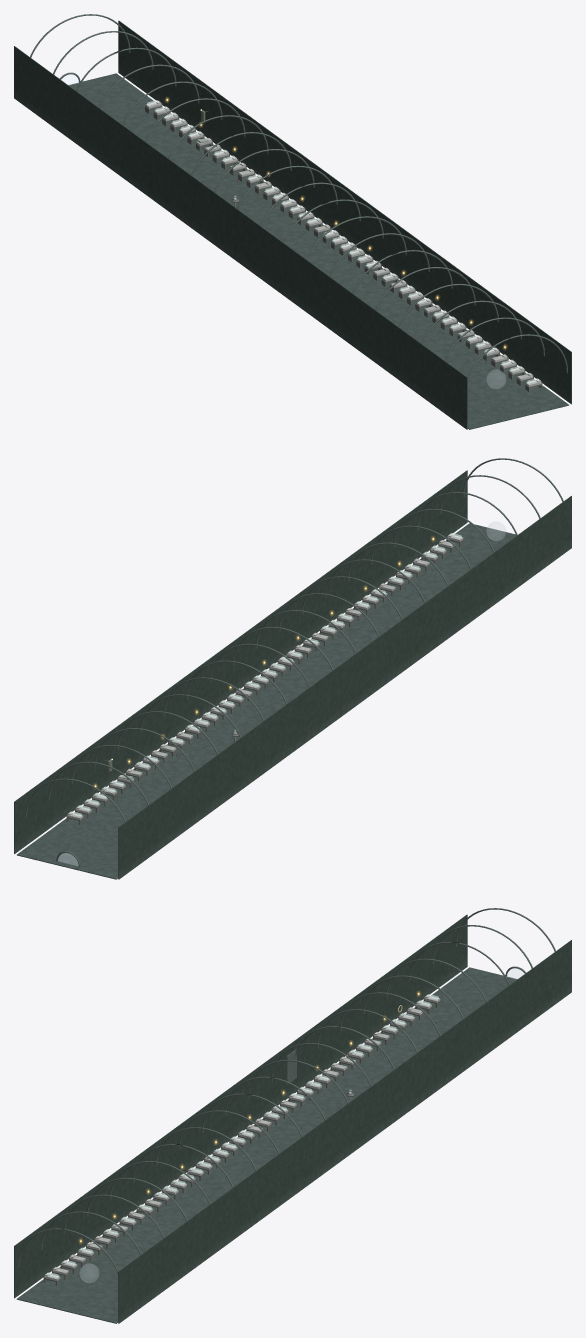
The model's file is faded-ward.glb.
3 views of the same model, one above another, from view 1: azimuth 30°, elevation 25°; view 2: azimuth 150°, elevation 25°; view 3: azimuth 330°, elevation 25° (orthographic).
Visible parts, largest first — view 1: fw_wall_left, fw_wall_right, fw_floor, fw_roof_ribs, fw_cot_mattresses, fw_cot_frames, fw_sleepers, fw_cot_pillows; view 2: fw_wall_left, fw_wall_right, fw_floor, fw_roof_ribs, fw_cot_mattresses, fw_cot_frames, fw_sleepers, fw_cot_pillows; view 3: fw_wall_right, fw_wall_left, fw_floor, fw_roof_ribs, fw_cot_mattresses, fw_cot_frames, fw_sleepers, fw_cot_pillows.
Boxes of the visible parts, bbox=[...] form: fw_wall_left: bbox=[14, 46, 467, 429]; fw_wall_right: bbox=[118, 20, 571, 404]; fw_floor: bbox=[68, 73, 569, 429]; fw_roof_ribs: bbox=[25, 14, 567, 380]; fw_cot_mattresses: bbox=[145, 102, 541, 386]; fw_cot_frames: bbox=[145, 103, 542, 391]; fw_sleepers: bbox=[147, 100, 538, 383]; fw_cot_pillows: bbox=[156, 101, 540, 382]; fw_wall_left: bbox=[118, 496, 571, 879]; fw_wall_right: bbox=[14, 470, 467, 853]; fw_floor: bbox=[17, 523, 516, 879]; fw_roof_ribs: bbox=[25, 458, 568, 821]; fw_cot_mattresses: bbox=[67, 535, 463, 819]; fw_cot_frames: bbox=[66, 536, 463, 824]; fw_sleepers: bbox=[70, 533, 461, 816]; fw_cot_pillows: bbox=[68, 534, 452, 815]; fw_wall_right: bbox=[118, 940, 571, 1323]; fw_wall_left: bbox=[14, 914, 467, 1298]; fw_floor: bbox=[16, 967, 517, 1323]; fw_roof_ribs: bbox=[18, 908, 560, 1274]; fw_cot_mattresses: bbox=[44, 996, 440, 1280]; fw_cot_frames: bbox=[43, 997, 440, 1285]; fw_sleepers: bbox=[47, 994, 438, 1277]; fw_cot_pillows: bbox=[45, 995, 429, 1276].
Bounding box in the file's own units: 316 × 227 × 2360.
21 materials, 13 textured.
